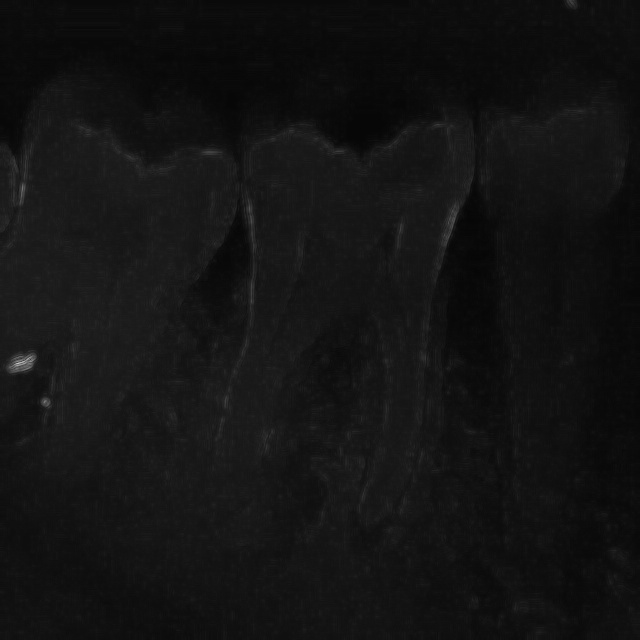cavity: (203, 86, 491, 586)
